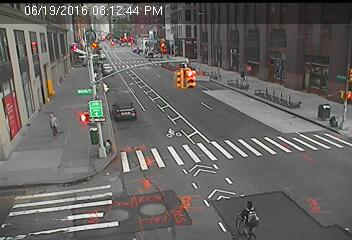neg: (230, 197, 262, 239), (320, 104, 340, 131), (73, 81, 87, 100), (83, 68, 95, 83)
pos: (43, 110, 65, 139), (236, 66, 251, 87)
